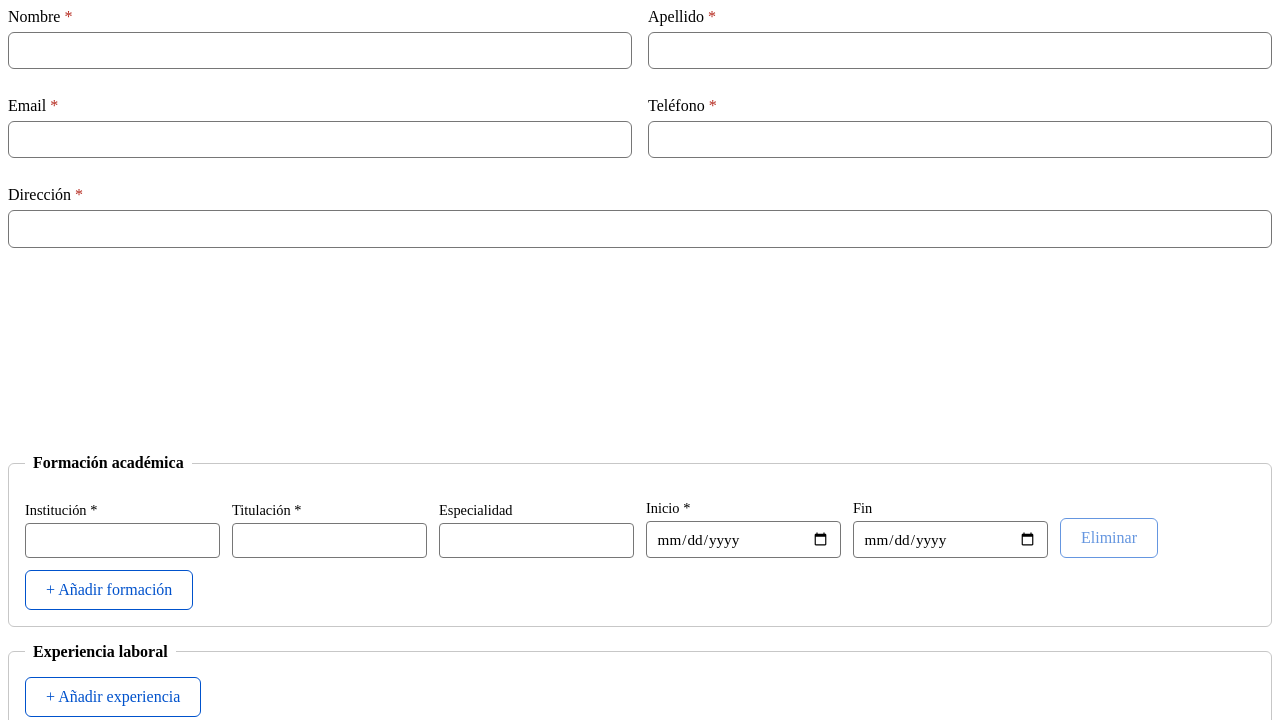
CandidateForm: education list › adds and removes education rows; disables remove when only one remains
Expected: the number of fields labelled "Institución *" is 1, x1=25 y1=523 x2=220 y2=558
Expected: the button with aria-label "Eliminar formación 1" is disabled, x1=1060 y1=518 x2=1158 y2=558
What coordinates should you click on to do the following:
click the button "+ Añadir formación"
I would click on:
 (109, 590)
Its box is x1=25 y1=570 x2=193 y2=610.
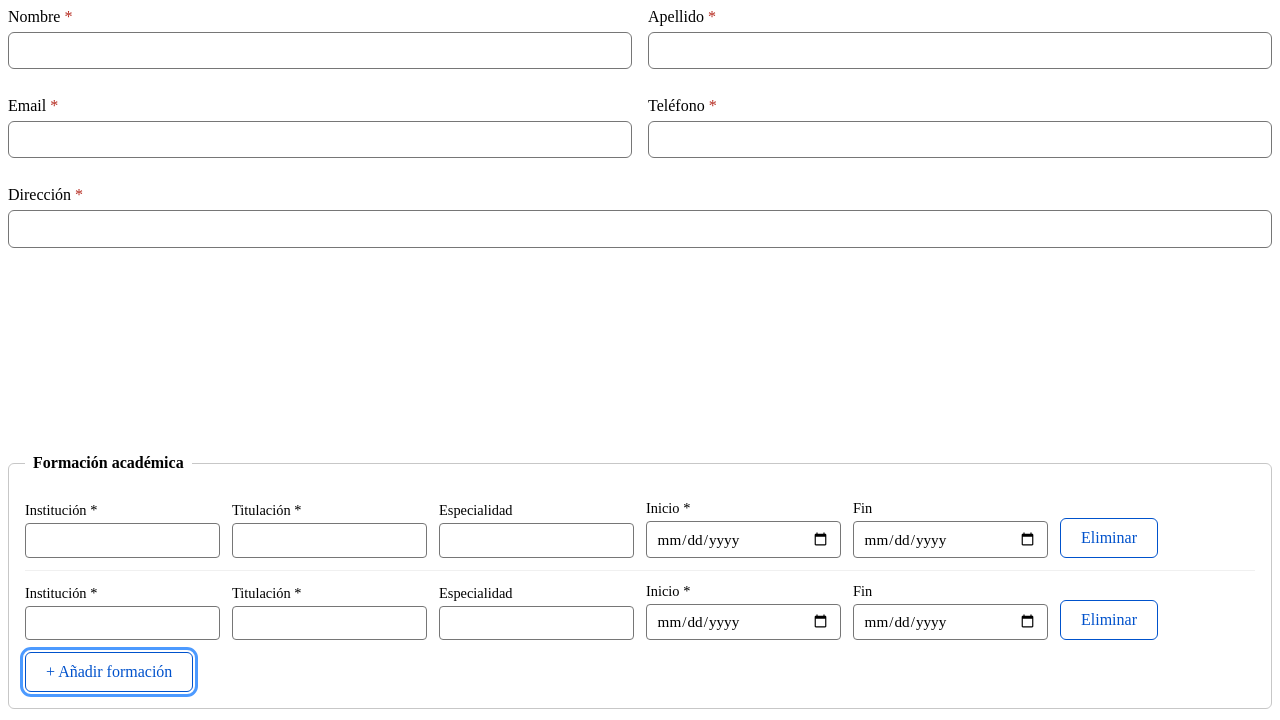
Expected: the number of fields labelled "Institución *" is 2, x1=25 y1=523 x2=220 y2=558; x1=25 y1=606 x2=220 y2=640
Expected: the button with aria-label "Eliminar formación 1" is enabled, x1=1060 y1=518 x2=1158 y2=558
What coordinates should you click on to do the following:
click the button with aria-label "Eliminar formación 2"
I would click on:
 (1109, 620)
Its box is x1=1060 y1=600 x2=1158 y2=640.
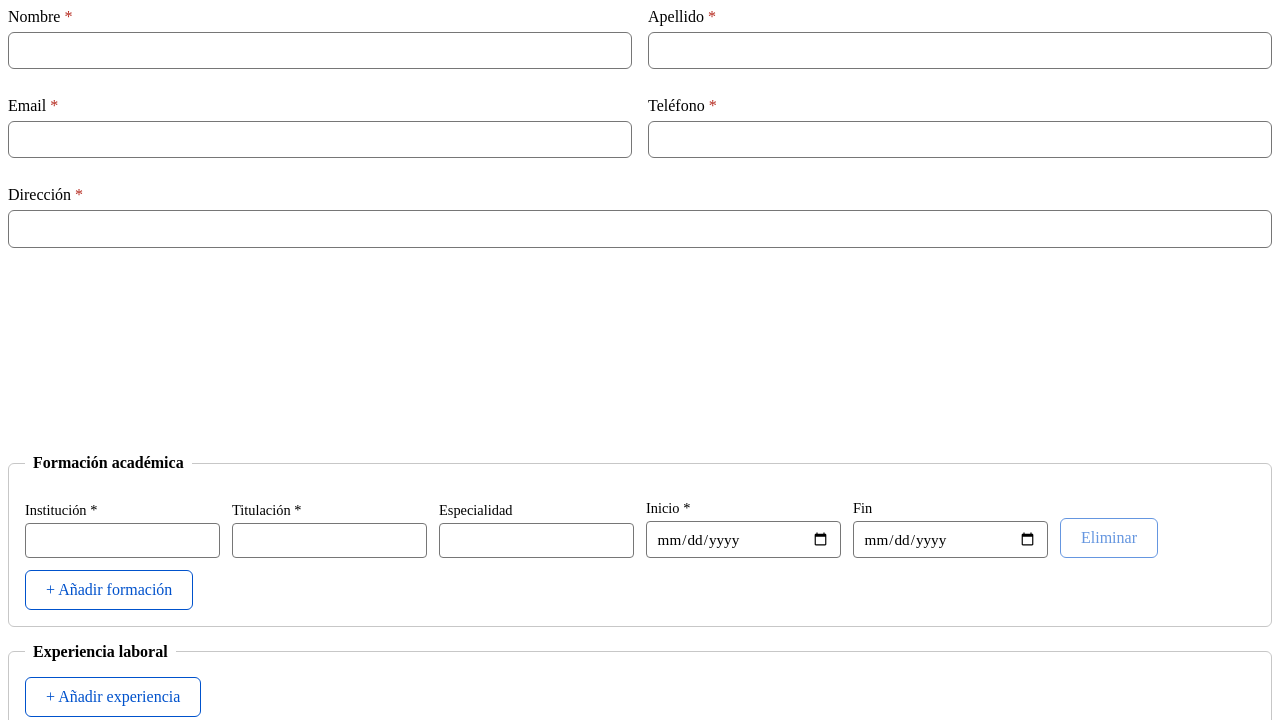
Expected: the number of fields labelled "Institución *" is 1, x1=25 y1=523 x2=220 y2=558
Expected: the button with aria-label "Eliminar formación 1" is disabled, x1=1060 y1=518 x2=1158 y2=558
